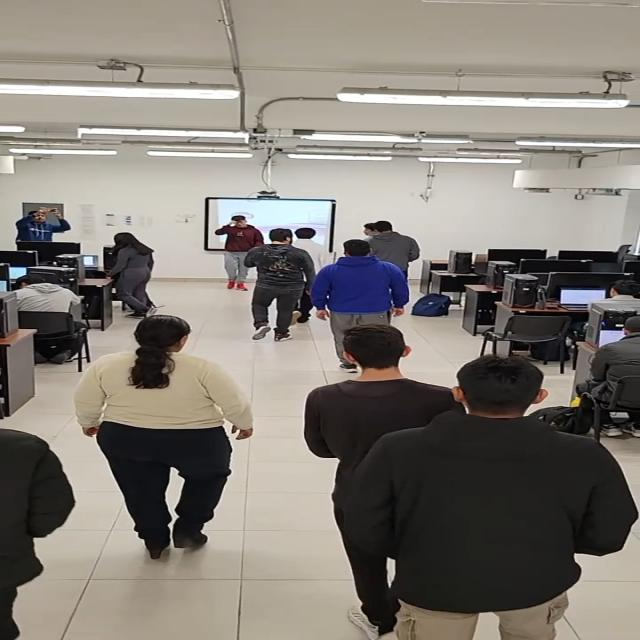Persona: (380, 354, 638, 640), (79, 312, 252, 564), (308, 326, 437, 459), (312, 238, 403, 349), (249, 227, 301, 343), (101, 228, 160, 318), (218, 213, 260, 294)
